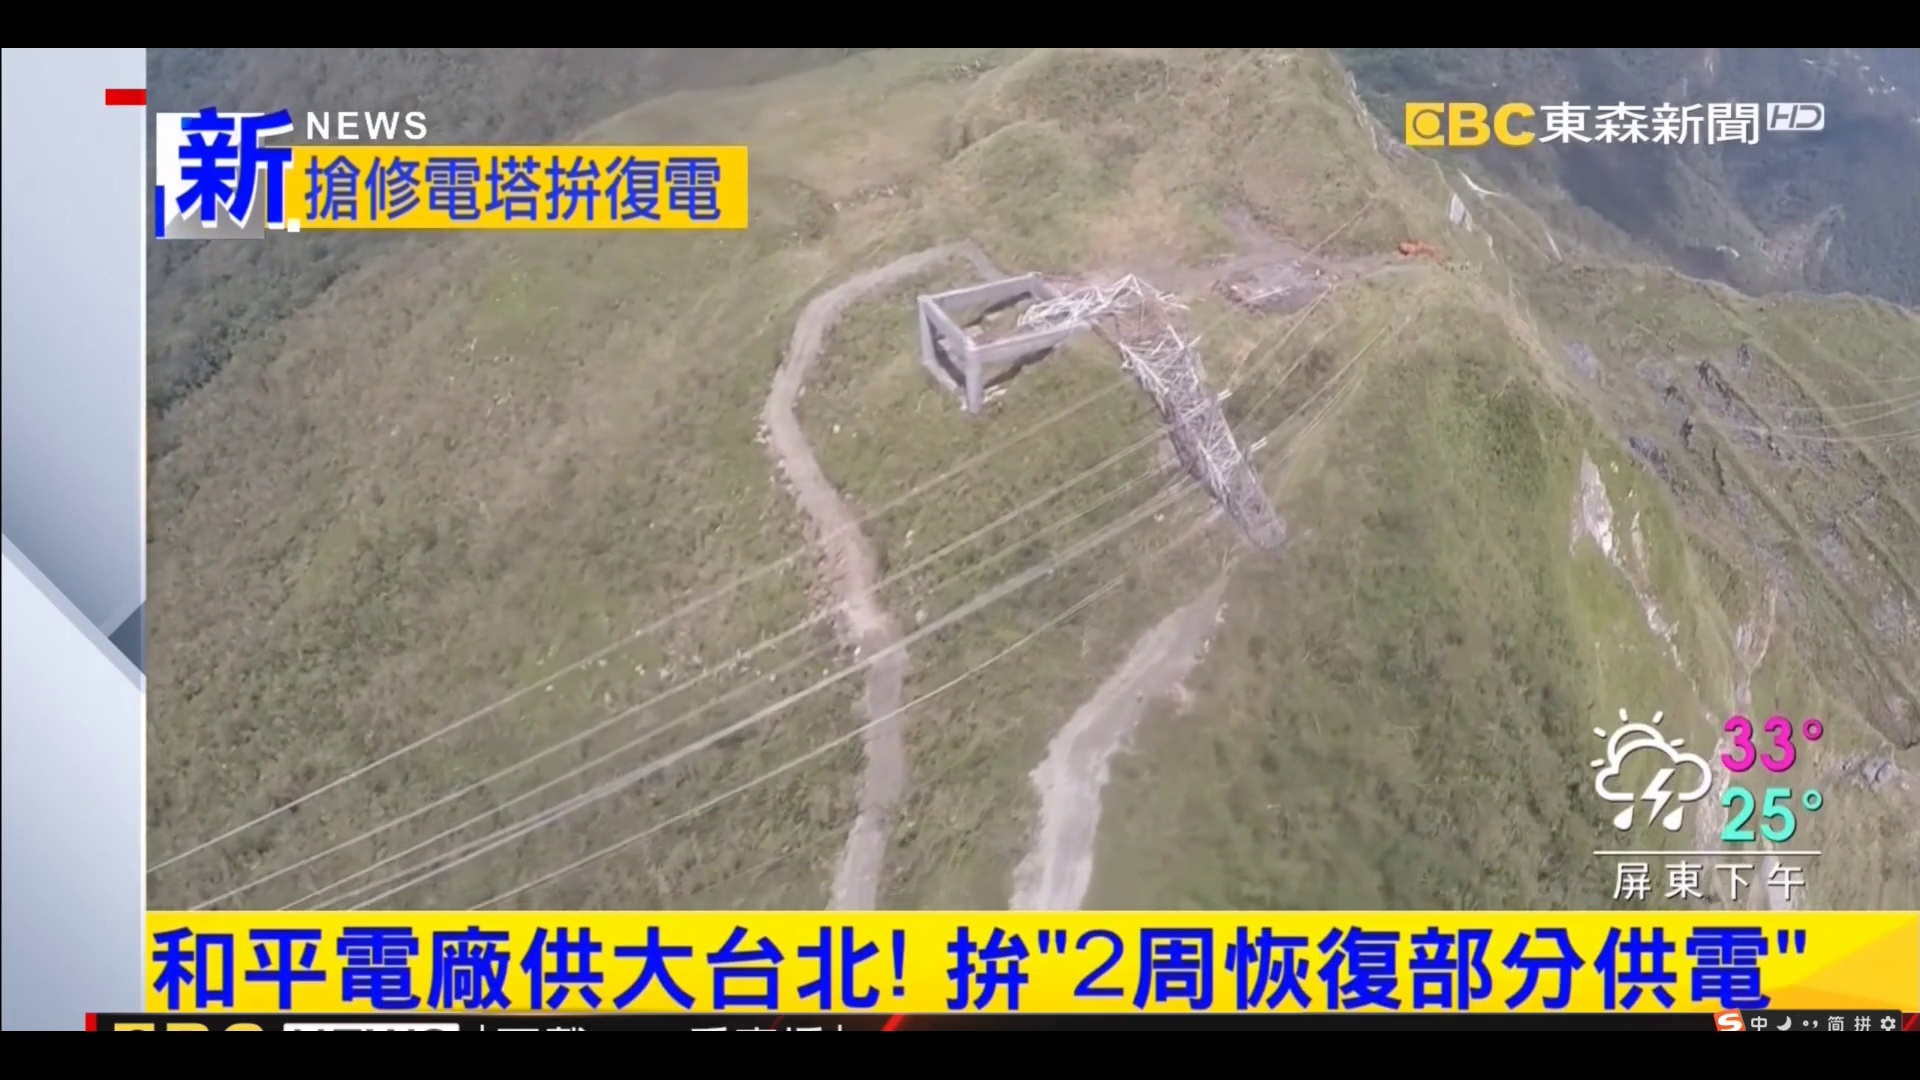tower_down: (1069, 255, 1302, 574)
